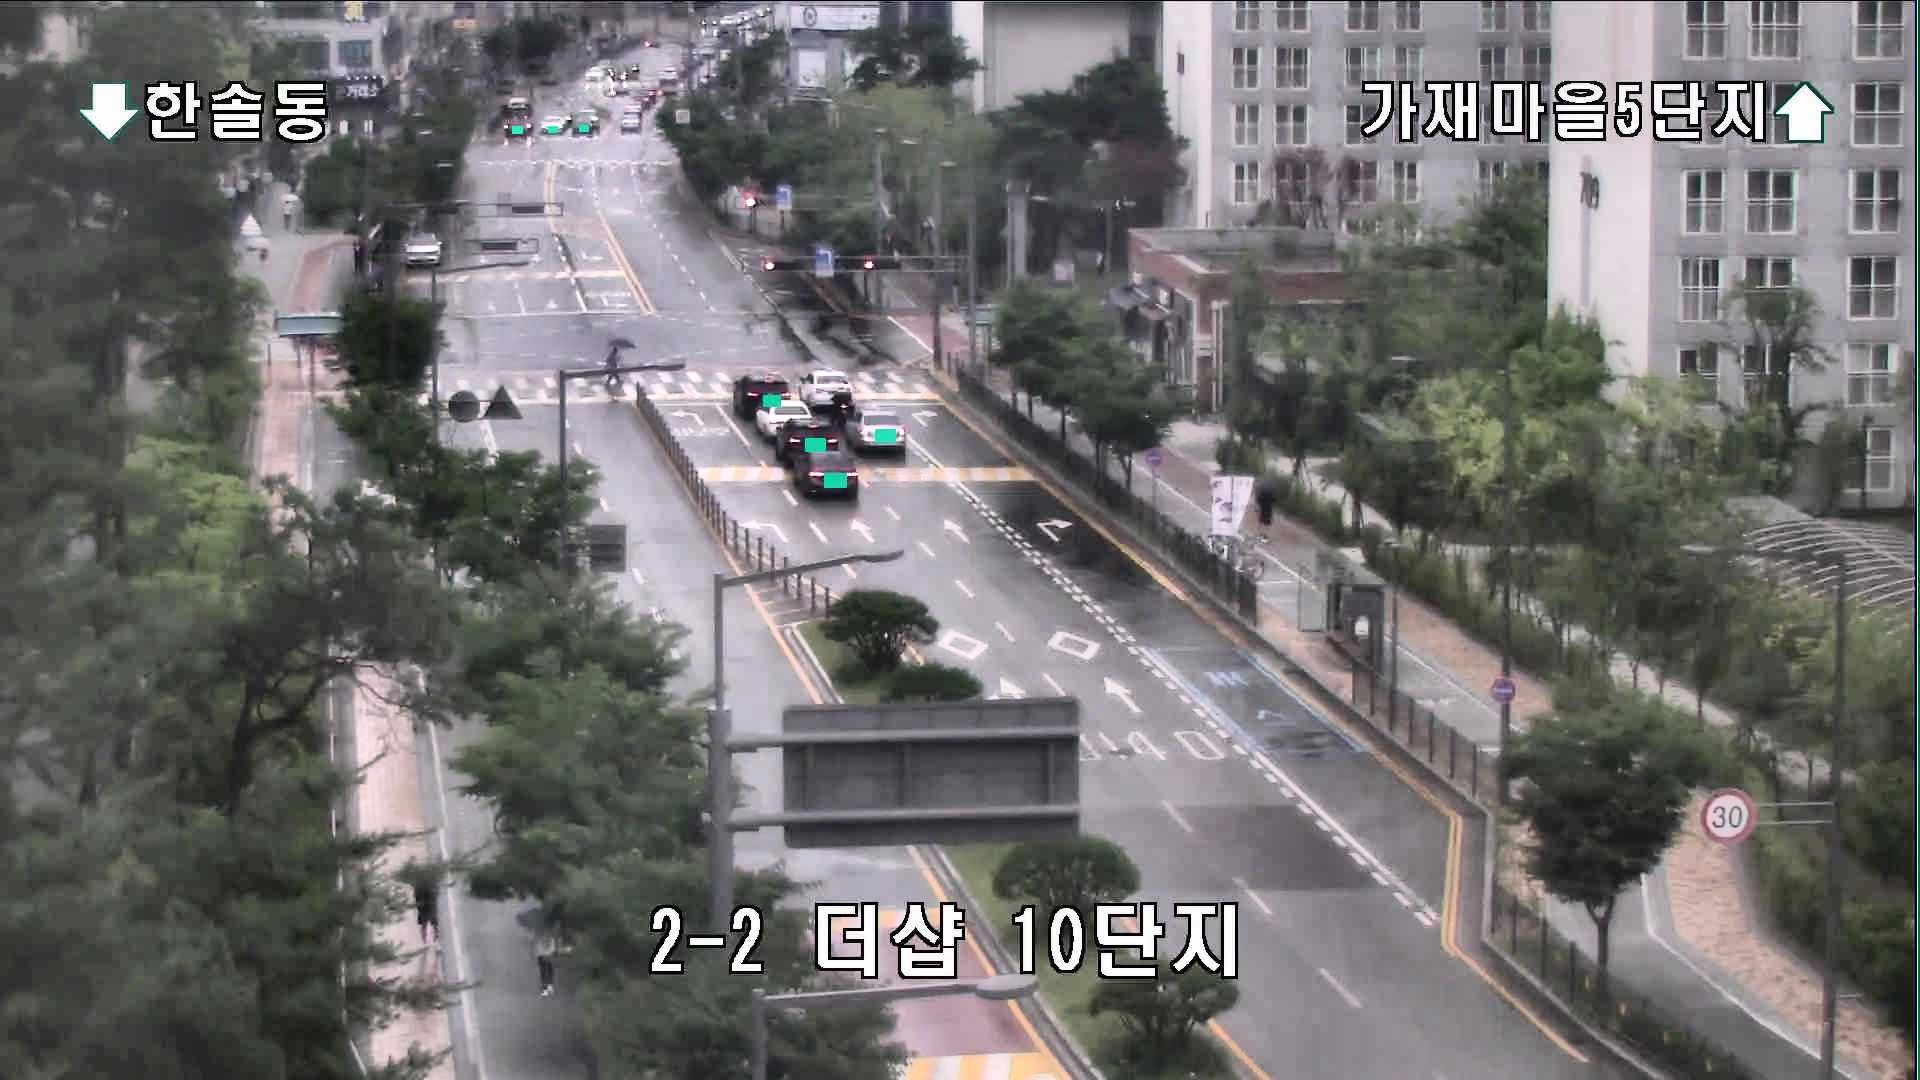um_crosswalk: (605, 338, 636, 384)
um_sidewalk: (402, 868, 447, 957), (520, 910, 560, 996), (1247, 477, 1278, 545), (280, 189, 297, 228), (255, 233, 272, 260)
